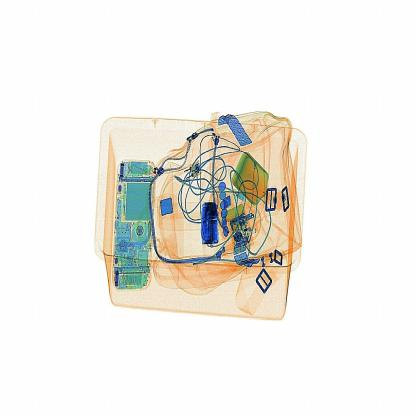scissors: (196, 192, 226, 249)
